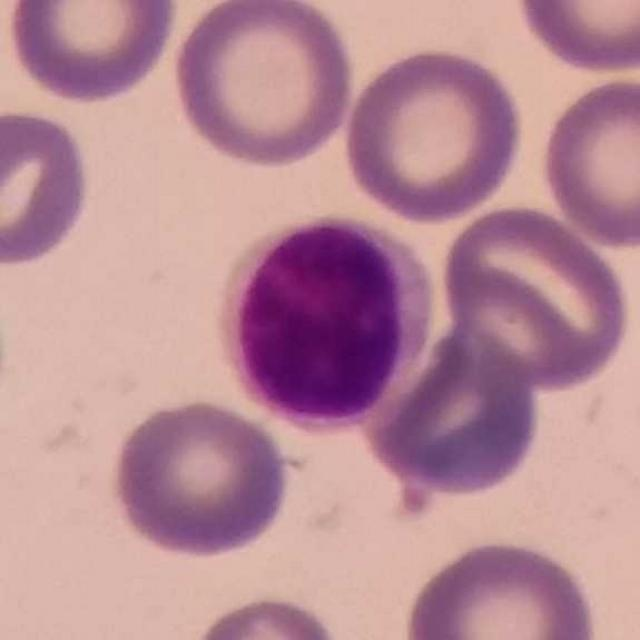Lymphocyte: (213, 209, 436, 434)
RBC: (435, 199, 637, 393), (340, 41, 528, 225), (358, 319, 546, 502), (167, 0, 358, 171), (106, 394, 295, 562), (400, 533, 602, 640), (1, 0, 184, 107), (534, 72, 640, 250), (0, 102, 96, 270), (510, 0, 640, 77), (187, 590, 346, 640)
